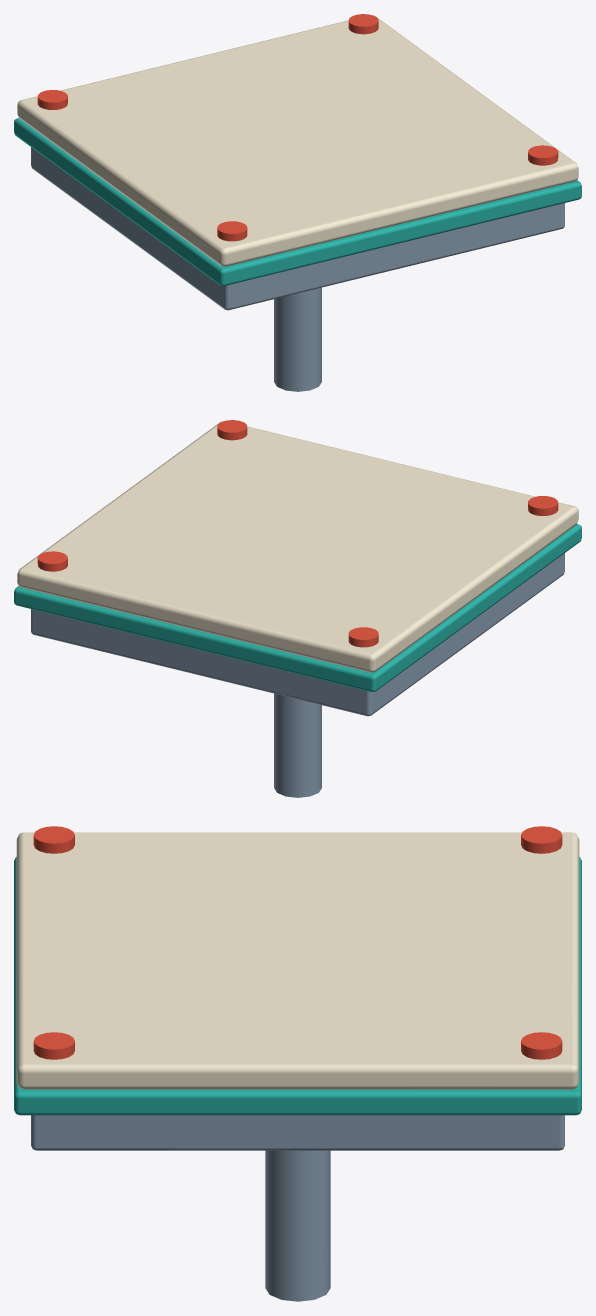
Rendered from PLAT_Toy_Wide.glb.
3 renders of one model, top to bottom at view 1: azimuth 30°, elevation 25°; view 2: azimuth 150°, elevation 25°; view 3: azimuth 270°, elevation 25°, orthographic. The views are drawn at different scales.
Visible parts, largest first — view 1: Top, Base, Band, Strut, Stud_1_1, Stud_-1_-1, Stud_1_-1, Stud_-1_1; view 2: Top, Base, Band, Strut, Stud_1_-1, Stud_-1_1, Stud_1_1, Stud_-1_-1; view 3: Top, Base, Band, Strut, Stud_1_1, Stud_1_-1, Stud_-1_1, Stud_-1_-1.
Boxes of the visible parts, left/top/right/bottom form: Top: left=17, top=15, right=578, bottom=266; Base: left=31, top=147, right=564, bottom=310; Band: left=14, top=118, right=581, bottom=285; Strut: left=274, top=287, right=321, bottom=391; Stud_1_1: left=348, top=14, right=378, bottom=34; Stud_-1_-1: left=217, top=221, right=247, bottom=241; Stud_1_-1: left=528, top=145, right=558, bottom=165; Stud_-1_1: left=37, top=90, right=67, bottom=109; Top: left=17, top=421, right=578, bottom=672; Base: left=31, top=553, right=564, bottom=716; Band: left=14, top=524, right=581, bottom=691; Strut: left=274, top=693, right=321, bottom=797; Stud_1_-1: left=217, top=420, right=247, bottom=440; Stud_-1_1: left=348, top=627, right=378, bottom=647; Stud_1_1: left=37, top=551, right=67, bottom=571; Stud_-1_-1: left=528, top=496, right=558, bottom=515; Top: left=16, top=832, right=579, bottom=1089; Base: left=31, top=1115, right=564, bottom=1150; Band: left=14, top=857, right=581, bottom=1115; Strut: left=265, top=1150, right=330, bottom=1301; Stud_1_1: left=521, top=1032, right=562, bottom=1059; Stud_1_-1: left=33, top=1032, right=74, bottom=1059; Stud_-1_1: left=521, top=826, right=562, bottom=853; Stud_-1_-1: left=33, top=826, right=74, bottom=853.
Size of the model in its own units: 6.06 by 4.12 by 6.06.
